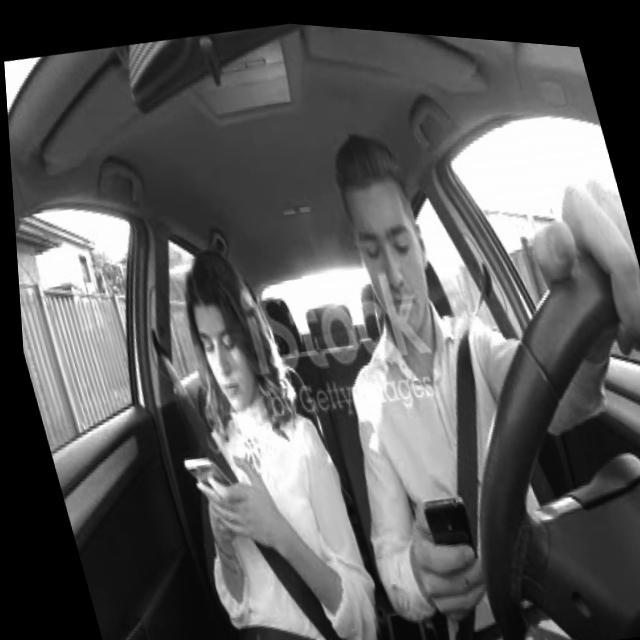PhoneCall: (411, 484, 478, 578), (174, 446, 234, 512)
